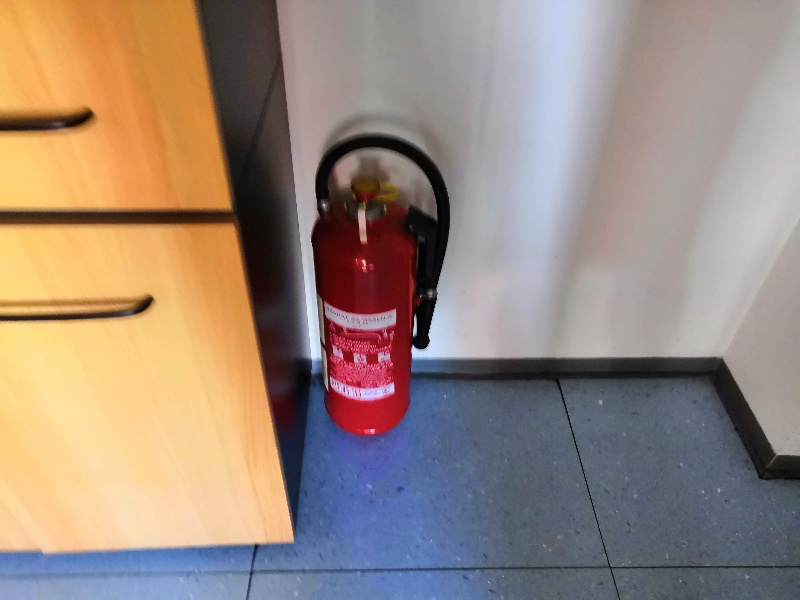vataparat: (311, 135, 451, 436)
